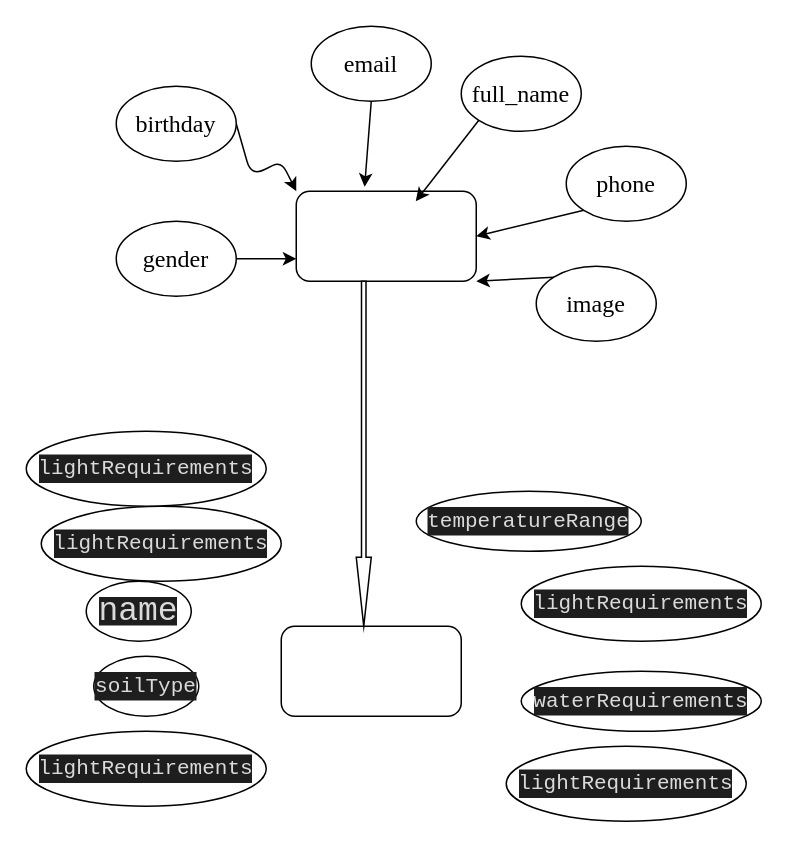
The diagram is 788 pixels wide and 848 high, and some of its shapes have lost their labels. The shapes that lost their labels are listed below. From the top down, each one's centre as x and y in pixels, then its label:
At pixel 385 235: "user".
At pixel 370 670: "plant".
